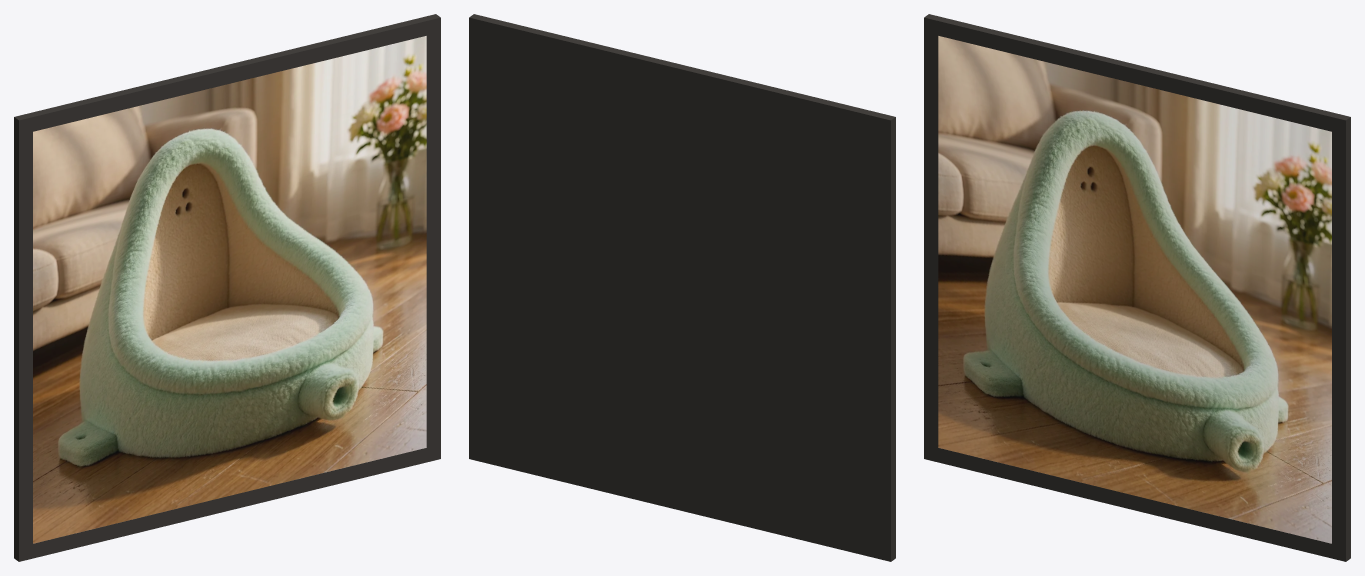
The model's file is picture_03_pet_bed.glb.
3 views of the same model, side by side, from view 1: azimuth 30°, elevation 25°; view 2: azimuth 150°, elevation 25°; view 3: azimuth 330°, elevation 25° (orthographic).
Parts seen in each view (by area): view 1: picture_03_pet_bed_nocol; view 2: picture_03_pet_bed_nocol; view 3: picture_03_pet_bed_nocol.
Boxes of the visible parts, left/top/right/bottom form: picture_03_pet_bed_nocol: left=14, top=14, right=440, bottom=561; picture_03_pet_bed_nocol: left=469, top=14, right=895, bottom=561; picture_03_pet_bed_nocol: left=924, top=14, right=1350, bottom=561.
Size of the model in its own units: 1.5 by 1.5 by 0.03.
Materials: 2 (1 with a texture image).
